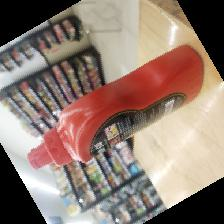Chinsu: (25, 45, 205, 170)
